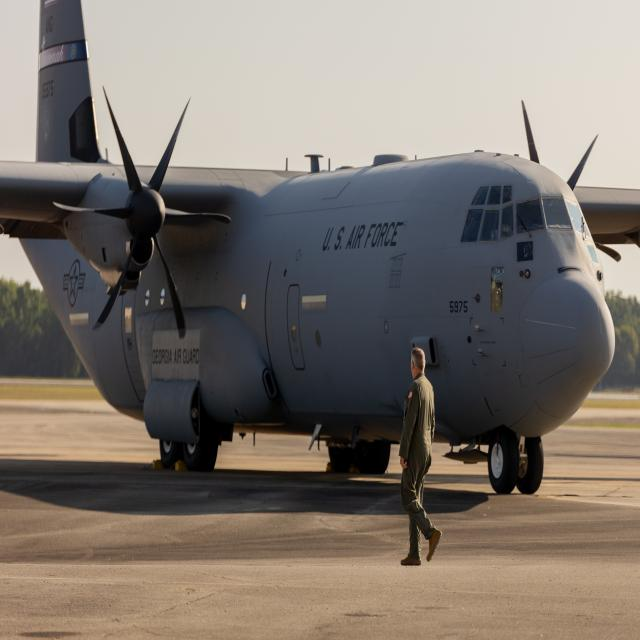C130: (5, 0, 639, 529)
